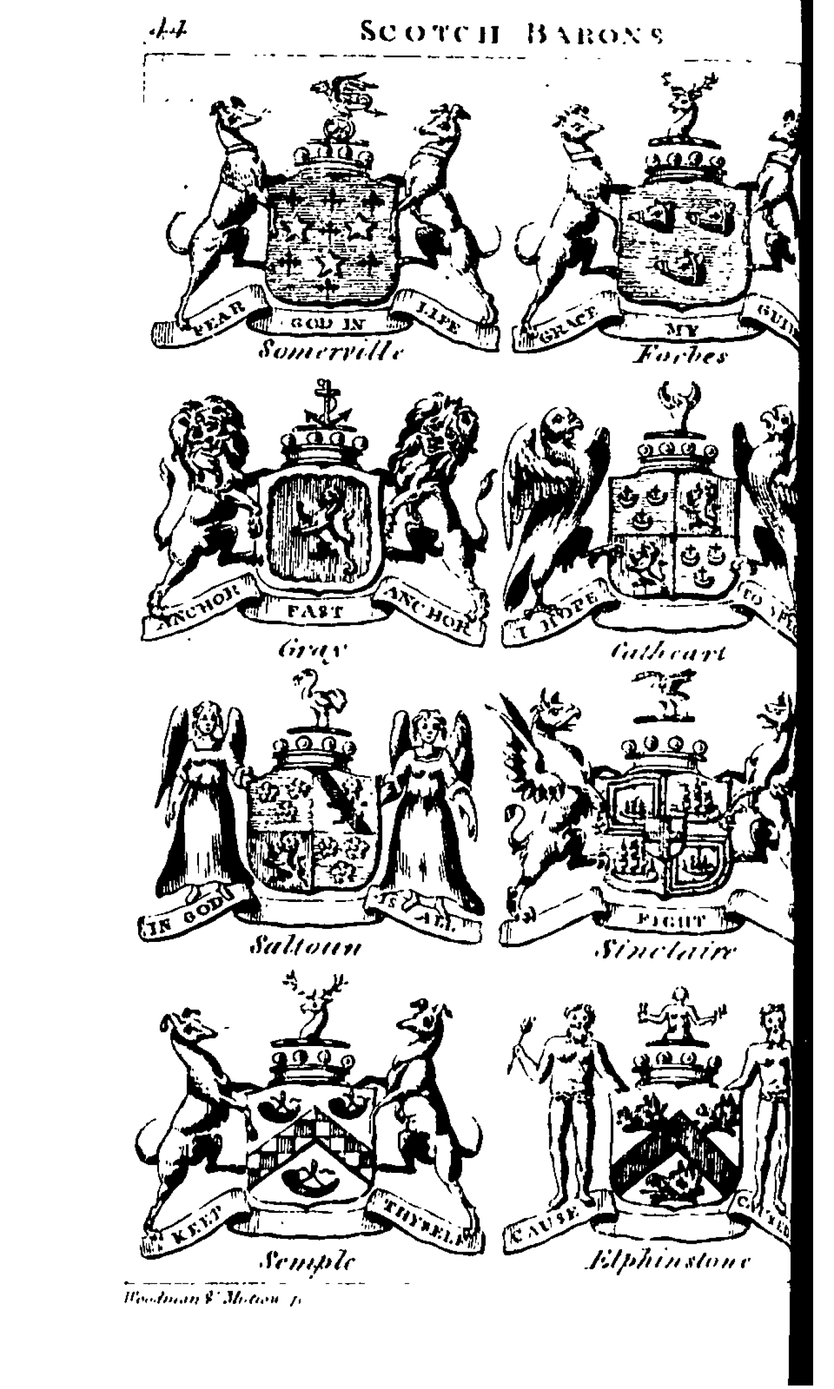coat_of_arms: (145, 669, 489, 970), (157, 67, 504, 363), (148, 374, 496, 669), (142, 973, 481, 1272), (491, 676, 807, 972), (504, 66, 804, 373), (489, 971, 799, 1266), (504, 372, 805, 671)
